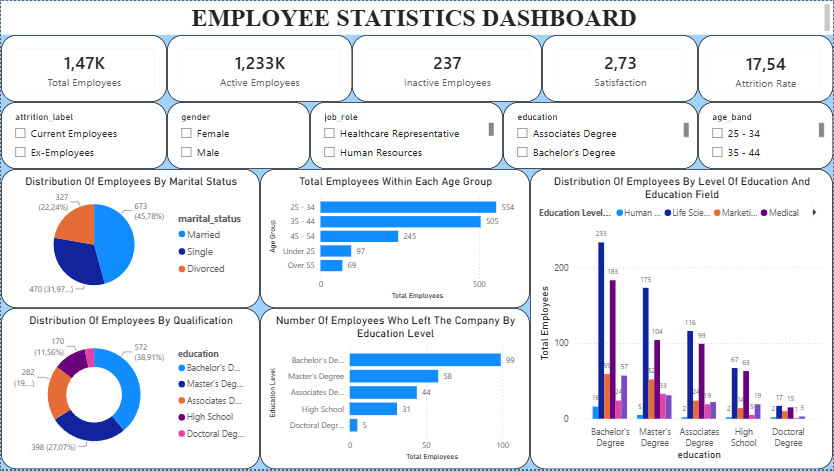

This screenshot's page, from the dashboard's own definition file:
{"tool":"powerbi","page":{"name":"Page 1","canvas":[1280,720],"ordinal":0},"visuals":[{"type":"cardVisual","title":"Total Number Of Employees","fields":{"Data":["Count(Employee Statistics.emp_no)"]},"box":[0,52.3,255.4,103.1],"z":0},{"type":"cardVisual","title":"Total Number Of Active Employees ","fields":{"Data":["CountNonNull(Employee Statistics.active_employee)"]},"box":[255.4,52.3,284.6,103.1],"z":1000},{"type":"cardVisual","title":"Total Number Of Inactive Employees","fields":{"Data":["CountNonNull(Employee Statistics.active_employee)"]},"box":[540,52.3,292.3,103.1],"z":2000},{"type":"cardVisual","title":"Average Job Satisfaction","fields":{"Data":["Avg(Employee Statistics.job_satisfaction)"]},"box":[832.3,52.3,240,103.1],"z":3000},{"type":"clusteredBarChart","title":"Total Employees Within Each Age Group","fields":{"Category":["Employee Statistics.age_band"],"Y":["CountNonNull(Employee Statistics.age)"]},"box":[398.5,258.5,415.4,213.8],"z":4000},{"type":"pieChart","title":"Distribution Of Employees By Marital Status","fields":{"Category":["Employee Statistics.marital_status"],"Y":["CountNonNull(Employee Statistics.emp_no)"]},"box":[0,258.5,398.5,213.8],"z":5000},{"type":"donutChart","title":"Distribution Of Employees By Qualification","fields":{"Category":["Employee Statistics.education"],"Y":["CountNonNull(Employee Statistics.emp_no)"]},"box":[0,472.3,398.5,247.7],"z":6000},{"type":"textbox","box":[0,0,1280,51.7],"z":7000},{"type":"slicer","fields":{"Values":["Employee Statistics.gender"]},"box":[255.4,155.4,220,103.1],"z":8000},{"type":"slicer","fields":{"Values":["Employee Statistics.attrition_label"]},"box":[0,155.4,255.4,103.1],"z":9000},{"type":"slicer","fields":{"Values":["Employee Statistics.job_role"]},"box":[475.4,155.4,296.9,103.1],"z":10000},{"type":"clusteredBarChart","title":"Number Of Employees Who Left The Company By Education Level","fields":{"Category":["Employee Statistics.education"],"Y":["CountNonNull(Employee Statistics.education)"]},"box":[398.5,472.3,415.4,247.7],"z":11000},{"type":"clusteredColumnChart","title":"Distribution Of Employees By Level Of Education And Education Field","fields":{"Y":["CountNonNull(Employee Statistics.education)"],"Category":["Employee Statistics.education"],"Series":["Employee Statistics.education_field"]},"box":[813.8,258.5,466.2,461.5],"z":12000},{"type":"slicer","fields":{"Values":["Employee Statistics.age_band"]},"box":[1072.3,155.4,207.7,103.1],"z":13000},{"type":"cardVisual","title":"Attrition Rate","fields":{"Data":["Employee Statistics.Attrition Rate"]},"box":[1072.3,52,207.7,103.1],"z":14000},{"type":"slicer","fields":{"Values":["Employee Statistics.education"]},"box":[772.3,155.4,300,103.1],"z":15000}]}

Visuals, with their boxes in screenshot pixels (x1, y1, x2, y2), scaled from the page's 1280x720 canvas onto the 834x472 screenshot:
"Total Number Of Employees" cardVisual: <box>0,34,166,102</box>
"Total Number Of Active Employees " cardVisual: <box>166,34,352,102</box>
"Total Number Of Inactive Employees" cardVisual: <box>352,34,542,102</box>
"Average Job Satisfaction" cardVisual: <box>542,34,699,102</box>
"Total Employees Within Each Age Group" clusteredBarChart: <box>260,169,530,310</box>
"Distribution Of Employees By Marital Status" pieChart: <box>0,169,260,310</box>
"Distribution Of Employees By Qualification" donutChart: <box>0,310,260,471</box>
textbox: <box>0,0,833,34</box>
slicer - Employee Statistics.gender: <box>166,102,310,169</box>
slicer - Employee Statistics.attrition_label: <box>0,102,166,169</box>
slicer - Employee Statistics.job_role: <box>310,102,503,169</box>
"Number Of Employees Who Left The Company By Education Level" clusteredBarChart: <box>260,310,530,471</box>
"Distribution Of Employees By Level Of Education And Education Field" clusteredColumnChart: <box>530,169,833,471</box>
slicer - Employee Statistics.age_band: <box>699,102,833,169</box>
"Attrition Rate" cardVisual: <box>699,34,833,102</box>
slicer - Employee Statistics.education: <box>503,102,699,169</box>
